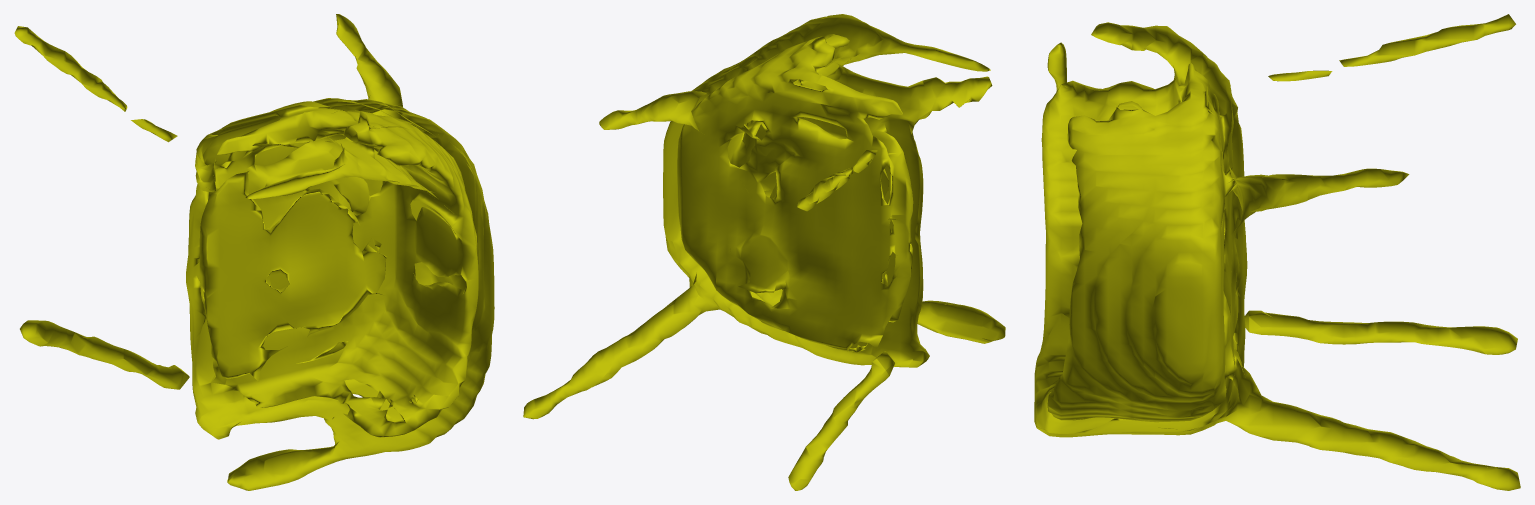
3 views of the same model, side by side, from view 1: azimuth 30°, elevation 25°; view 2: azimuth 150°, elevation 25°; view 3: azimuth 270°, elevation 25° (orthographic). The views are drawn at different scales.
Parts seen in each view (by area): view 1: world; view 2: world; view 3: world.
Part boxes in pixels (left/top/right/bottom): world: left=14, top=14, right=494, bottom=490; world: left=523, top=14, right=1005, bottom=490; world: left=1034, top=14, right=1520, bottom=490.
Bounding box in the file's own units: 31.67 × 31.68 × 41.28.
